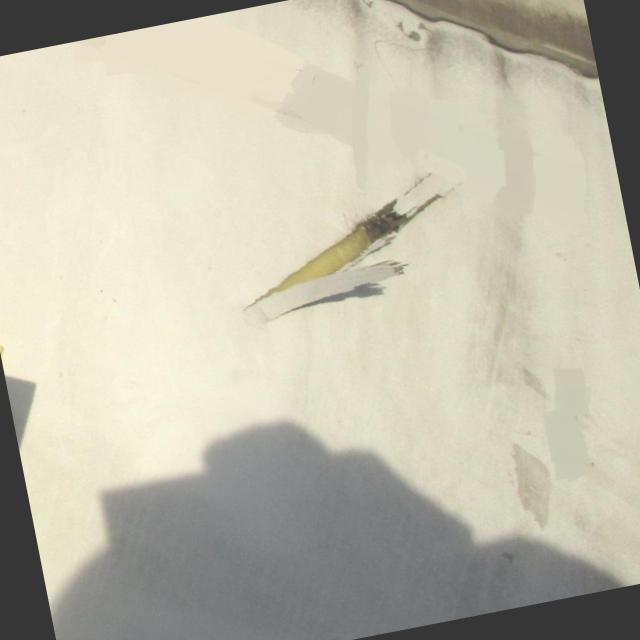crack: (218, 165, 468, 338)
